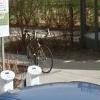Bicycle: (17, 24, 59, 75)
